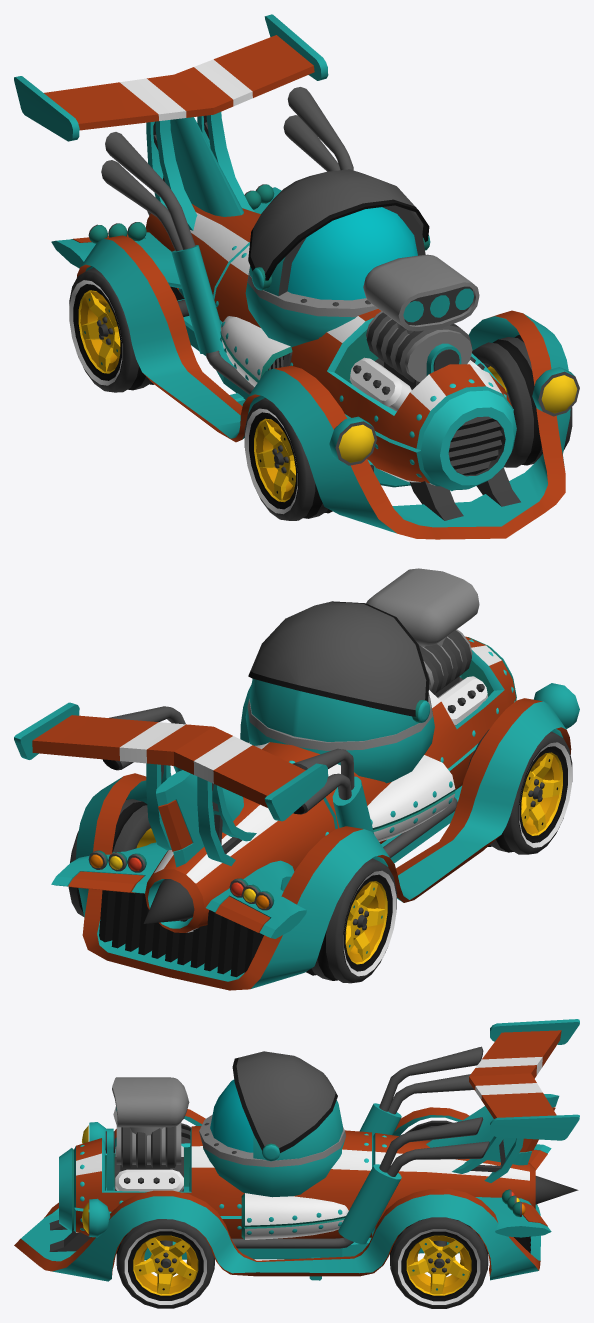
The model's file is VEH23-D.fbx.
3 views of the same model, one above another, from view 1: azimuth 30°, elevation 25°; view 2: azimuth 150°, elevation 25°; view 3: azimuth 270°, elevation 25° (orthographic). The views are drawn at different scales.
Parts seen in each view (by area): view 1: VEH23_D, VEH23D_Wheel_FR, VEH23D_Wheel_BR, VEH23D_Wheel_FL; view 2: VEH23_D, VEH23D_Wheel_BR, VEH23D_Wheel_FR, VEH23D_Wheel_BL; view 3: VEH23_D, VEH23D_Wheel_BL, VEH23D_Wheel_FL.
Part boxes in pixels (bbox=[...]): VEH23_D: bbox=[14, 14, 579, 539]; VEH23D_Wheel_FR: bbox=[244, 398, 332, 520]; VEH23D_Wheel_BR: bbox=[69, 267, 153, 392]; VEH23D_Wheel_FL: bbox=[472, 335, 572, 467]; VEH23_D: bbox=[14, 568, 579, 990]; VEH23D_Wheel_BR: bbox=[305, 858, 396, 983]; VEH23D_Wheel_FR: bbox=[467, 729, 572, 854]; VEH23D_Wheel_BL: bbox=[68, 799, 156, 916]; VEH23_D: bbox=[14, 1019, 579, 1281]; VEH23D_Wheel_BL: bbox=[390, 1217, 488, 1308]; VEH23D_Wheel_FL: bbox=[116, 1219, 214, 1308].
Size of the model in its own units: 230 by 201 by 513.
Materials: 1 (1 with a texture image).
